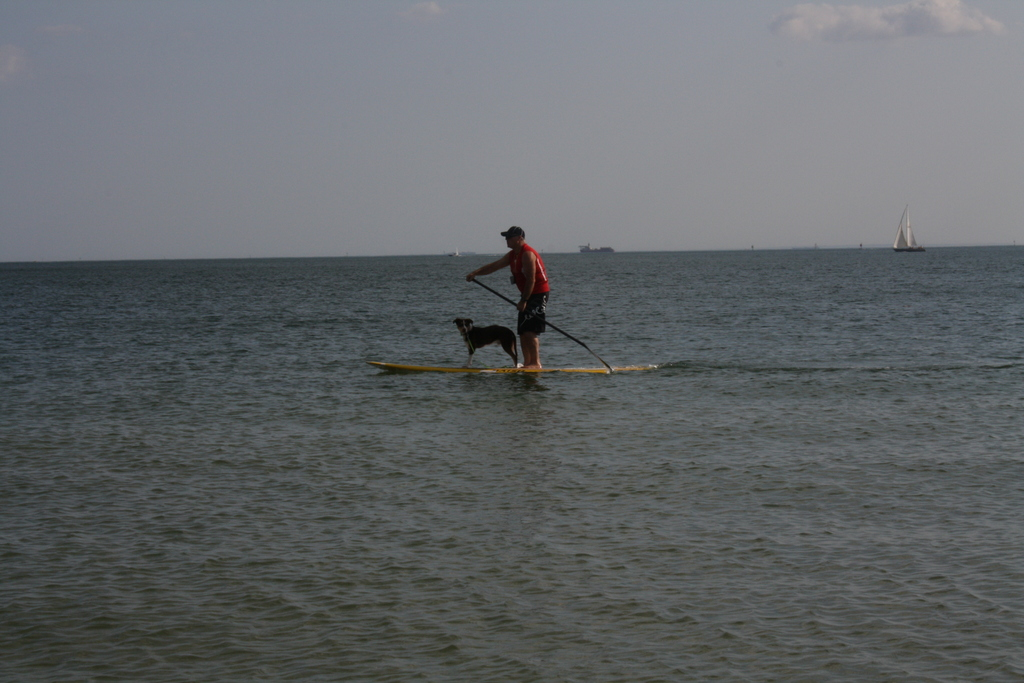Person: (465, 225, 549, 369)
